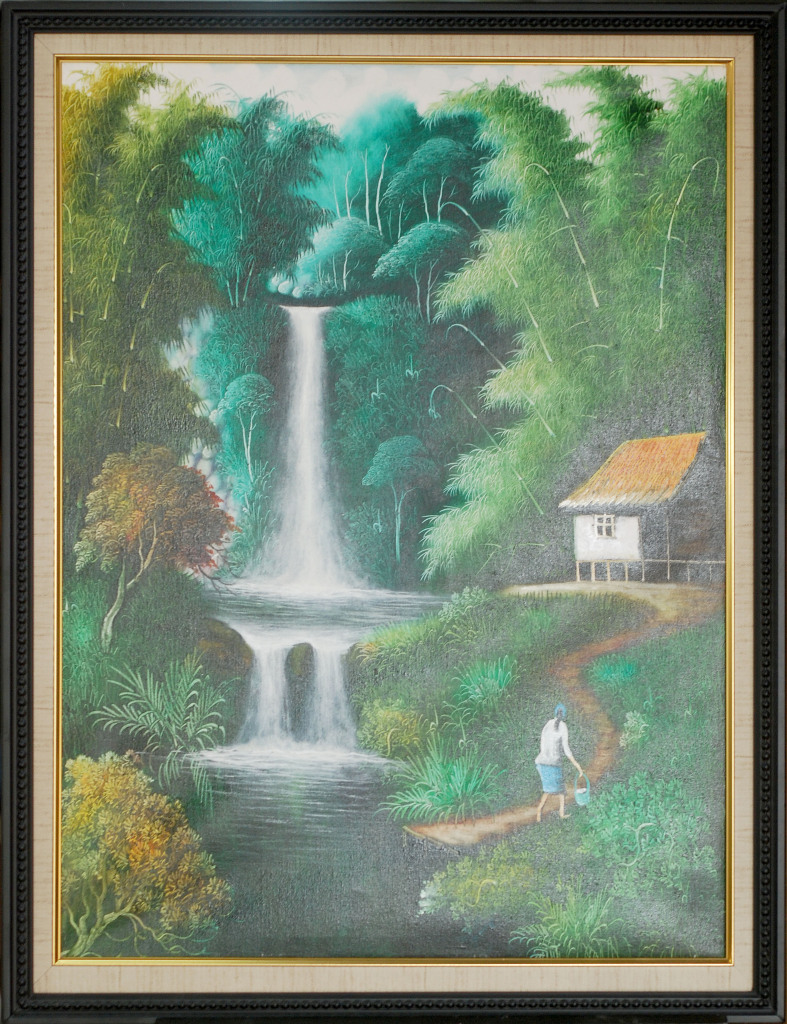lukisan: (1, 4, 781, 1011)
